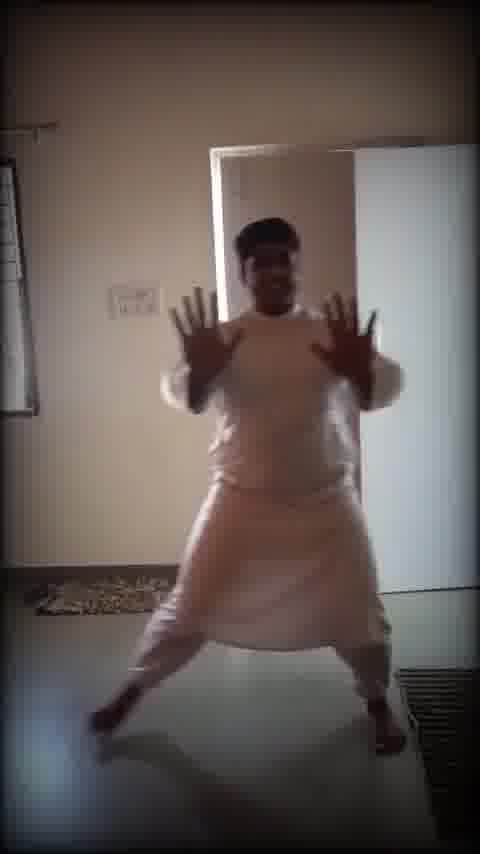duck: (147, 222, 429, 600)
